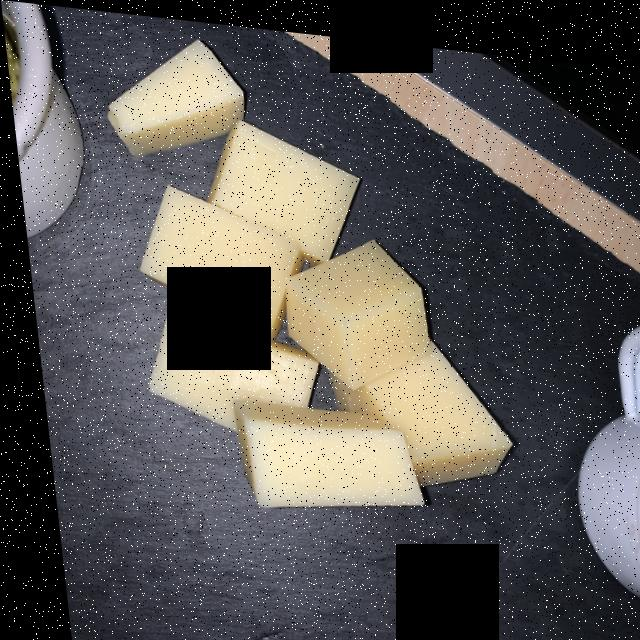hard-cheese: (116, 55, 493, 503)
